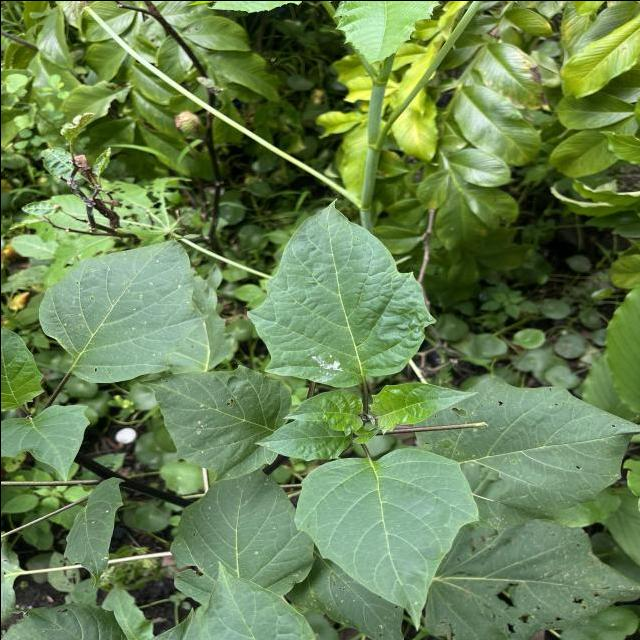Datura metal linn: (243, 196, 438, 390), (292, 446, 482, 632), (36, 232, 211, 384), (134, 361, 294, 483)
